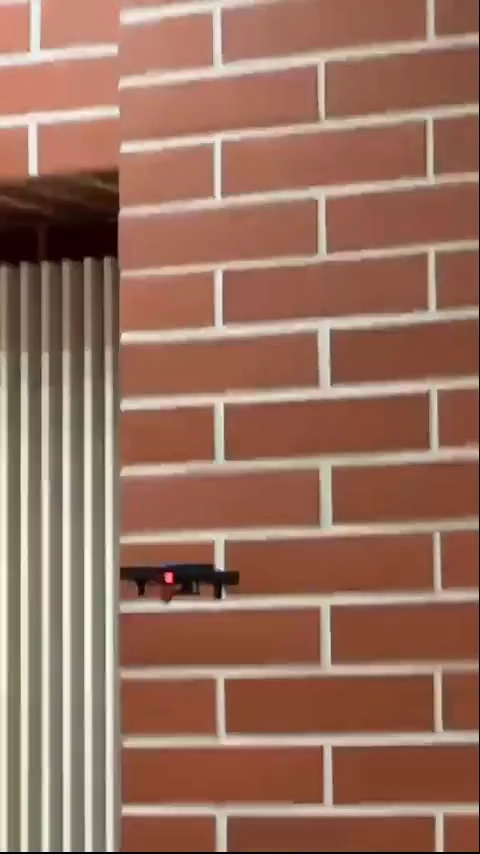drone: (111, 554, 238, 605)
